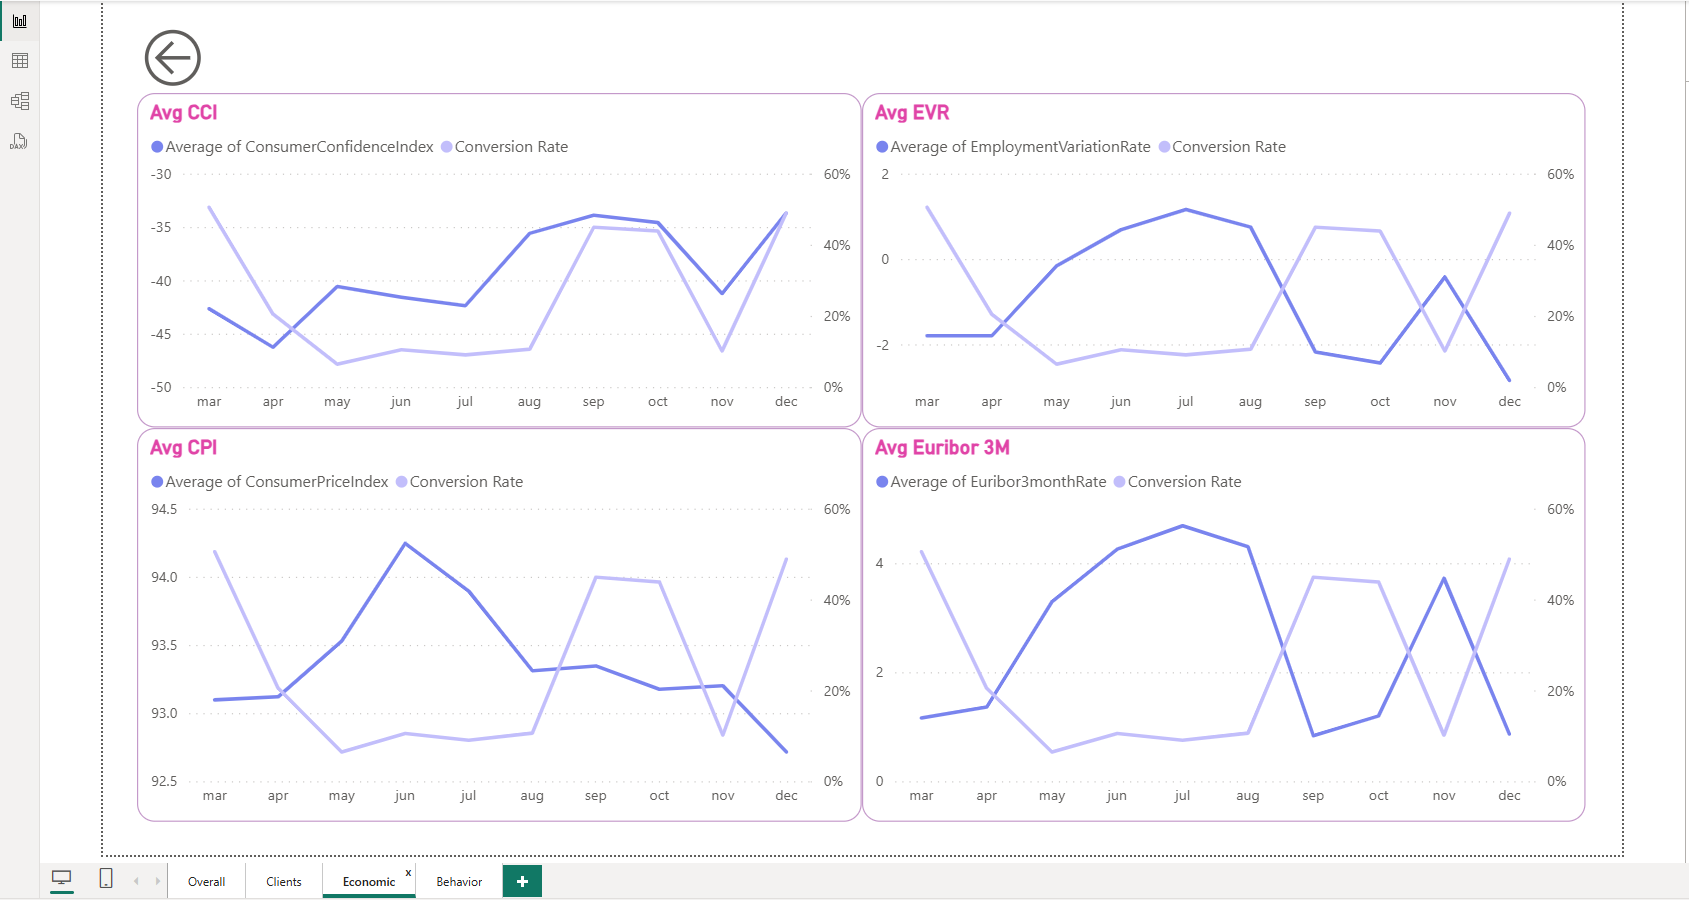

The dashboard page shown, as its layout file describes it:
{"tool":"powerbi","page":{"name":"Economic","canvas":[1280,720],"ordinal":2},"visuals":[{"type":"lineChart","title":"Avg CCI","fields":{"Category":["bank-additional-full.LastContactMonth"],"Y":["Avg(bank-additional-full.ConsumerConfidenceIndex)"],"Y2":["Facts.%Subcribers"]},"box":[29,77.8,611,282.3],"z":0},{"type":"lineChart","title":"Avg CPI","fields":{"Category":["bank-additional-full.LastContactMonth"],"Y":["Avg(bank-additional-full.ConsumerPriceIndex)"],"Y2":["Facts.%Subcribers"]},"box":[29,360.1,611,332.2],"z":1000},{"type":"lineChart","title":"Avg EVR","fields":{"Category":["bank-additional-full.LastContactMonth"],"Y":["Avg(bank-additional-full.EmploymentVariationRate)"],"Y2":["Facts.%Subcribers"]},"box":[640,77.8,609.8,282.3],"z":2000},{"type":"lineChart","title":"Avg Euribor 3M","fields":{"Y":["Avg(bank-additional-full.Euribor3monthRate)"],"Category":["bank-additional-full.LastContactMonth"],"Y2":["Facts.%Subcribers"]},"box":[640,360.1,609.8,332.2],"z":3000},{"type":"actionButton","box":[29,17.4,69.7,60.4],"z":5000}]}

Visuals, with their boxes on the page's 1280x720 design canvas (x1, y1, x2, y2). These are canvas units, not pixel positions in the 1689x900 screenshot, which may show the page scaled, cropped or inside an application window:
"Avg CCI" lineChart: locate(29, 78, 640, 360)
"Avg CPI" lineChart: locate(29, 360, 640, 692)
"Avg EVR" lineChart: locate(640, 78, 1250, 360)
"Avg Euribor 3M" lineChart: locate(640, 360, 1250, 692)
actionButton: locate(29, 17, 99, 78)
